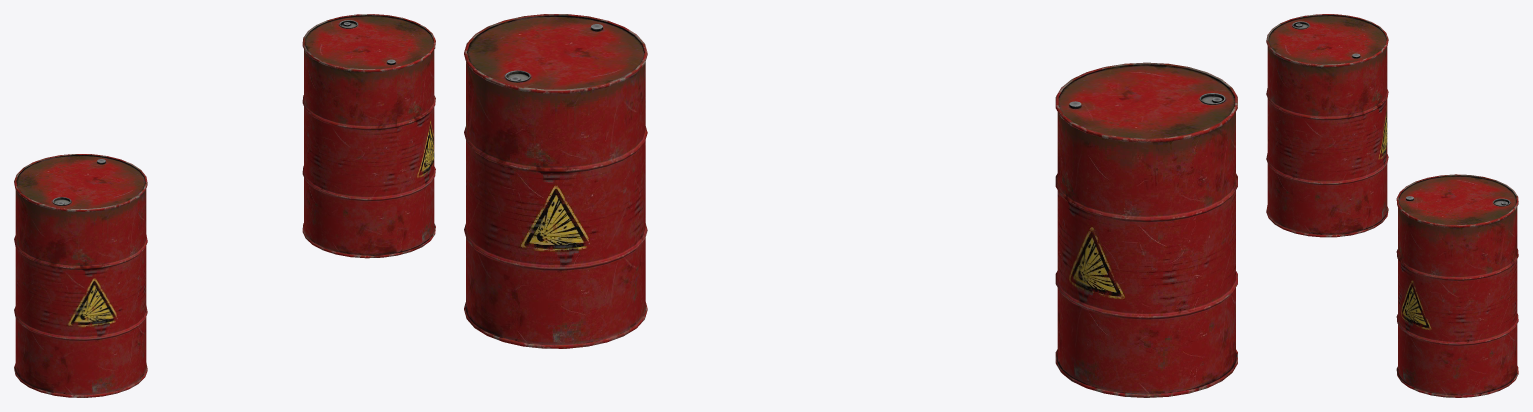
File: drum_hazard.glb
The picture shows the model from 3 angles, left to right: view 1: azimuth 30°, elevation 25°; view 2: azimuth 150°, elevation 25°; view 3: azimuth 270°, elevation 25°; orthographic projection. The views are drawn at different scales.
Visible parts, largest first — view 1: Barrel_01 (×2); view 2: Barrel_01 (×2); view 3: Barrel_01 (×2).
Boxes of the visible parts, x1=… form: Barrel_01 (×2): x1=14, y1=14, x2=435, y2=397; Barrel_01 (×2): x1=464, y1=14, x2=1237, y2=397; Barrel_01 (×2): x1=1266, y1=14, x2=1518, y2=397.
Bounding box in the file's own units: 2.31 × 0.88 × 1.16.
1 material, 1 textured.
